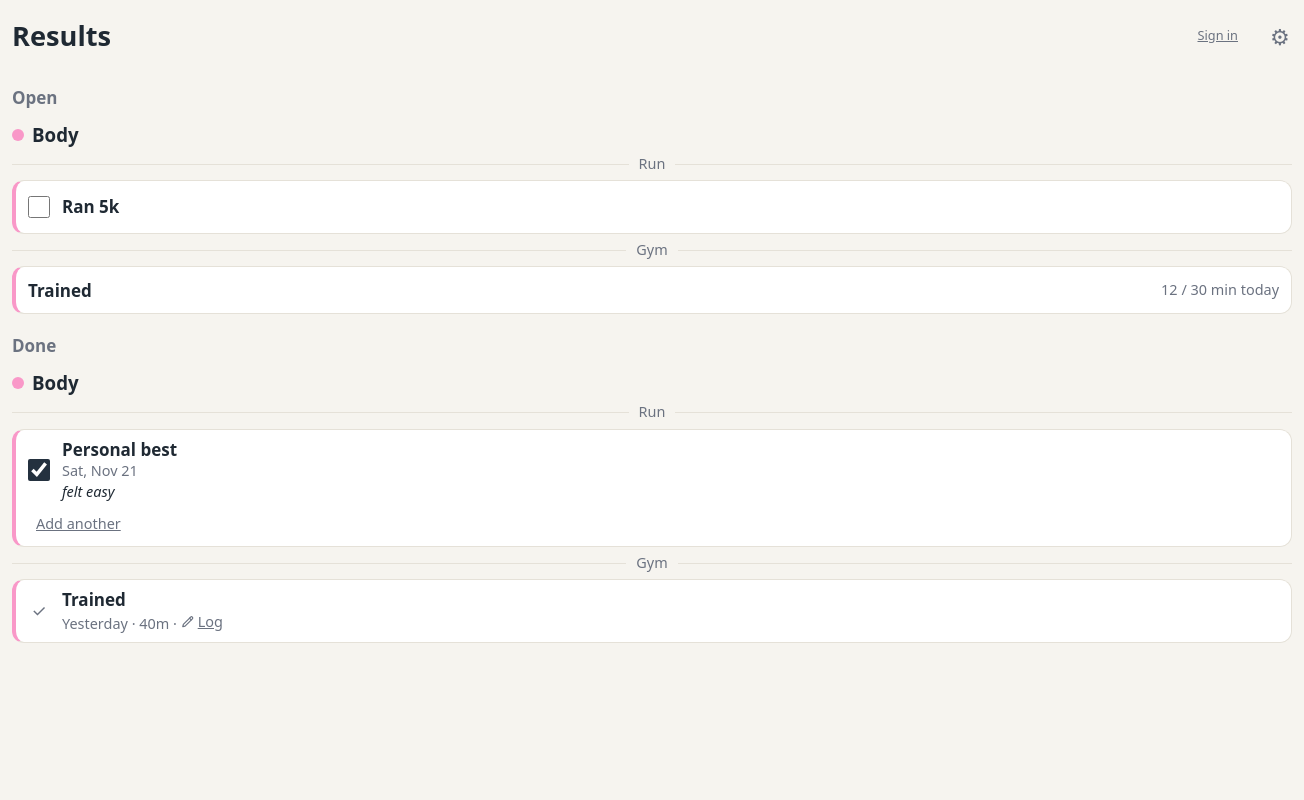
Test: Results › screen › closes the sheet without checking when the box is tapped again
Click the checkbox labelled "Ran 5k" at (39, 207), box [28,196,50,218]
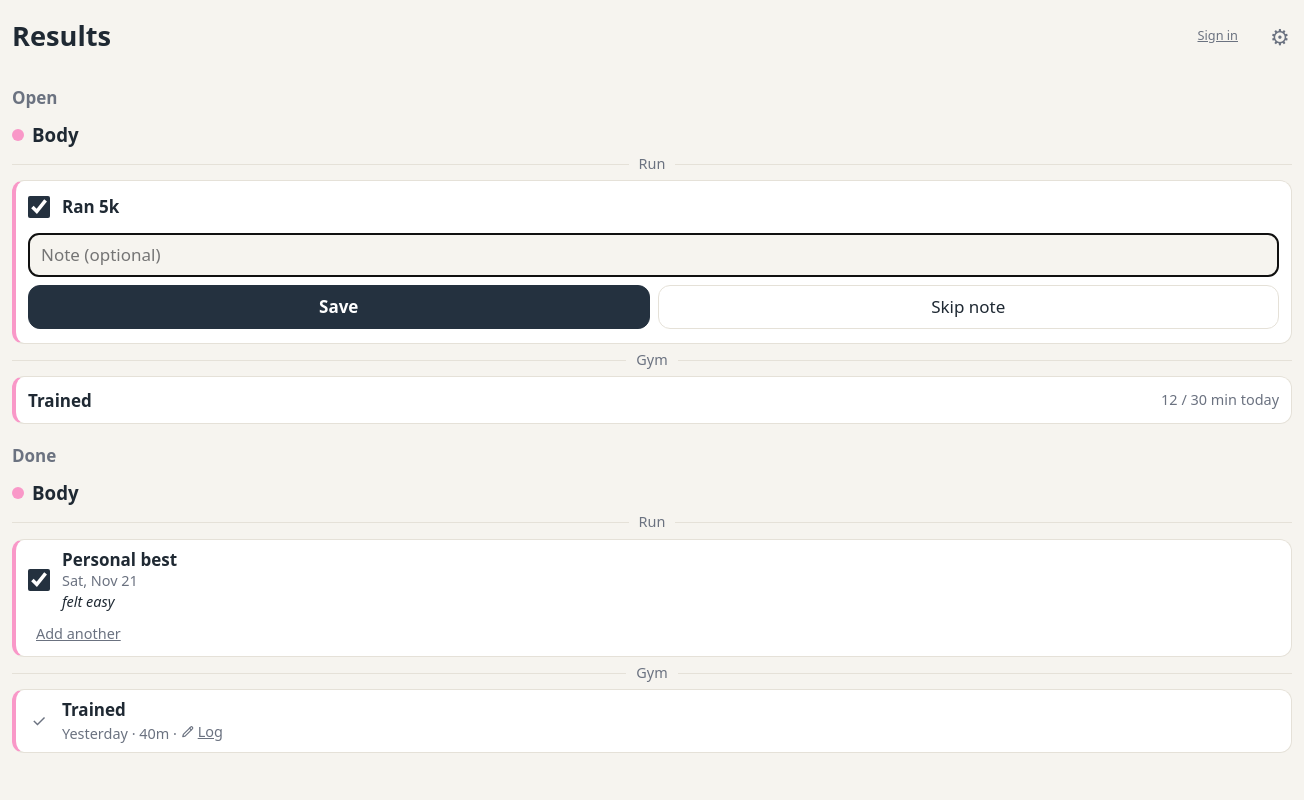
Now the checkbox labelled "Ran 5k" is checked
Click the checkbox labelled "Ran 5k" at (39, 207), box [28,196,50,218]
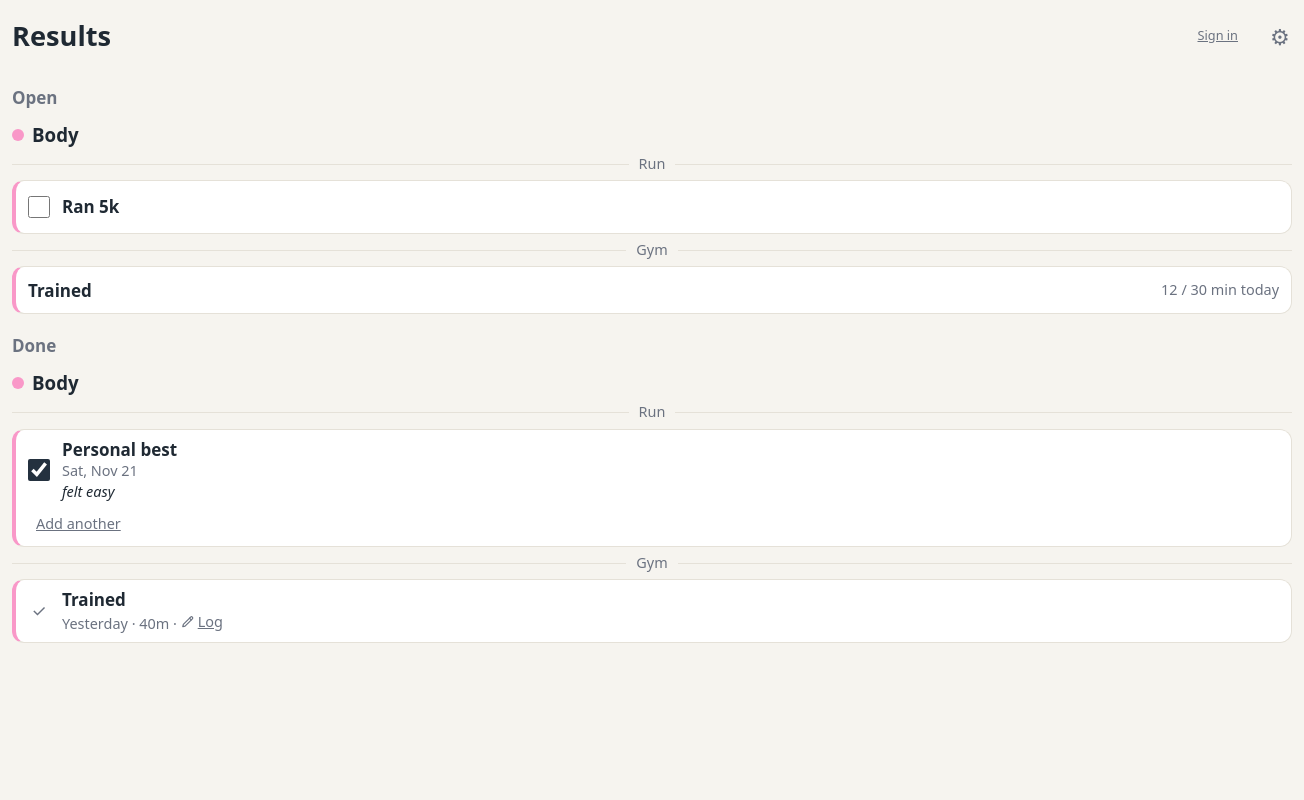
Now the form with class "note-sheet" is gone
